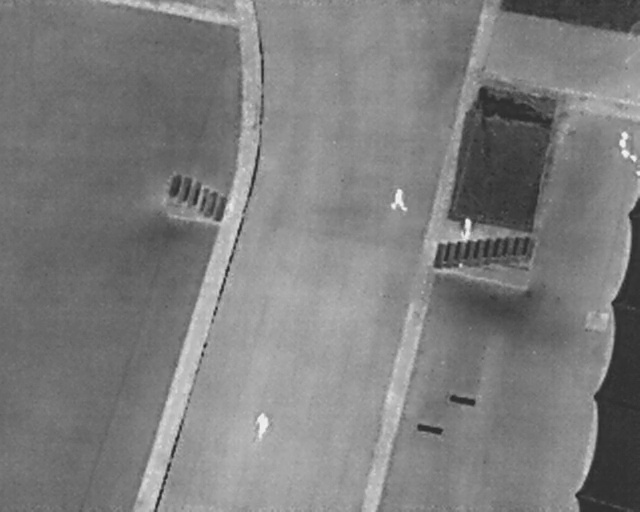Person: (252, 409, 271, 444), (390, 187, 406, 213), (462, 218, 473, 242)
